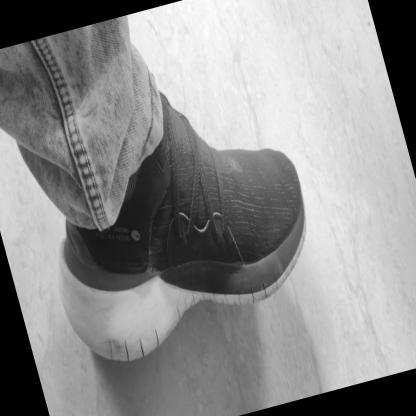ankle: (129, 183, 136, 197)
heel: (62, 251, 71, 264)
pinky: (262, 151, 268, 160)
right_foot: (24, 92, 333, 374)
toe: (290, 215, 295, 222)
